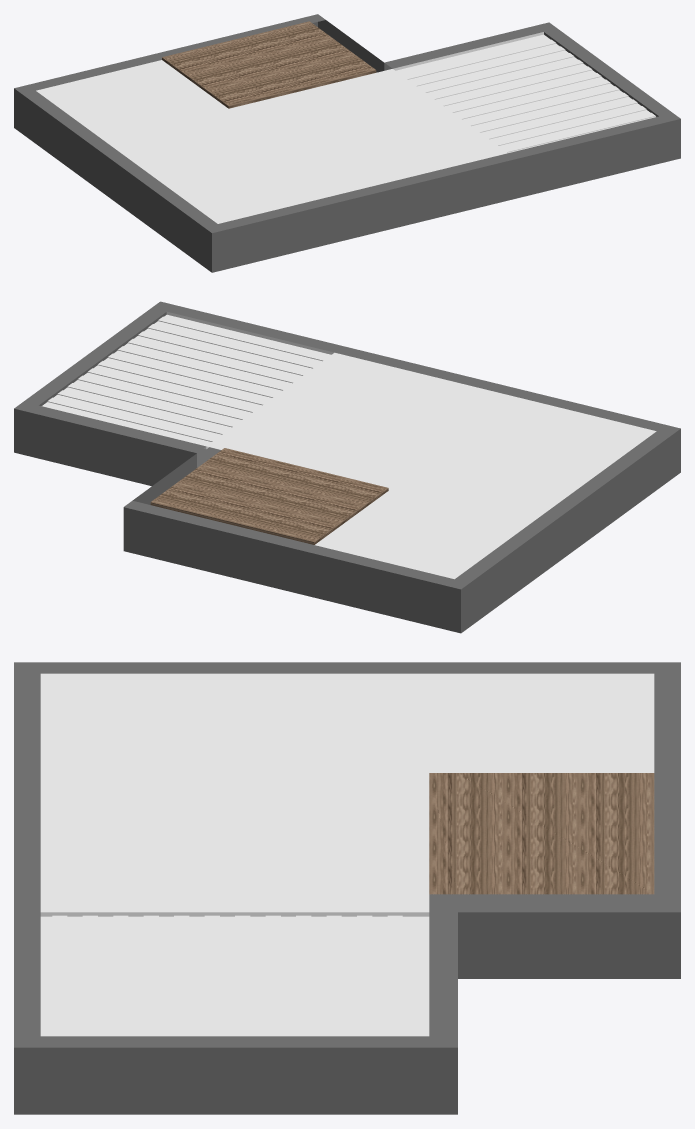
File: editRoom_floor.glb
3 renders of one model, top to bottom at view 1: azimuth 30°, elevation 25°; view 2: azimuth 150°, elevation 25°; view 3: azimuth 270°, elevation 25°, orthographic. The views are drawn at different scales.
Parts seen in each view (by area): view 1: Plane; view 2: Plane; view 3: Plane.
Part boxes in pixels (x1,y1,x2,y2): Plane: (14, 14, 680, 272); Plane: (14, 301, 680, 633); Plane: (14, 662, 680, 1114).
Bounding box in the file's own units: 3.72 × 0.3205 × 2.72.
Materials: 3 (1 with a texture image).
